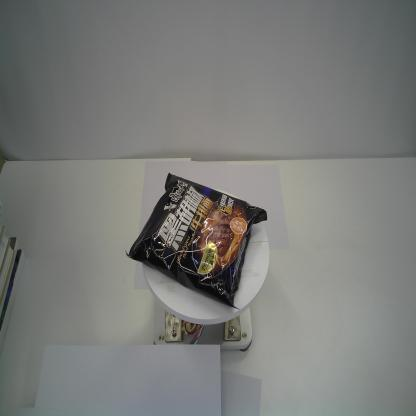Instant Noodles: (124, 170, 268, 310)
